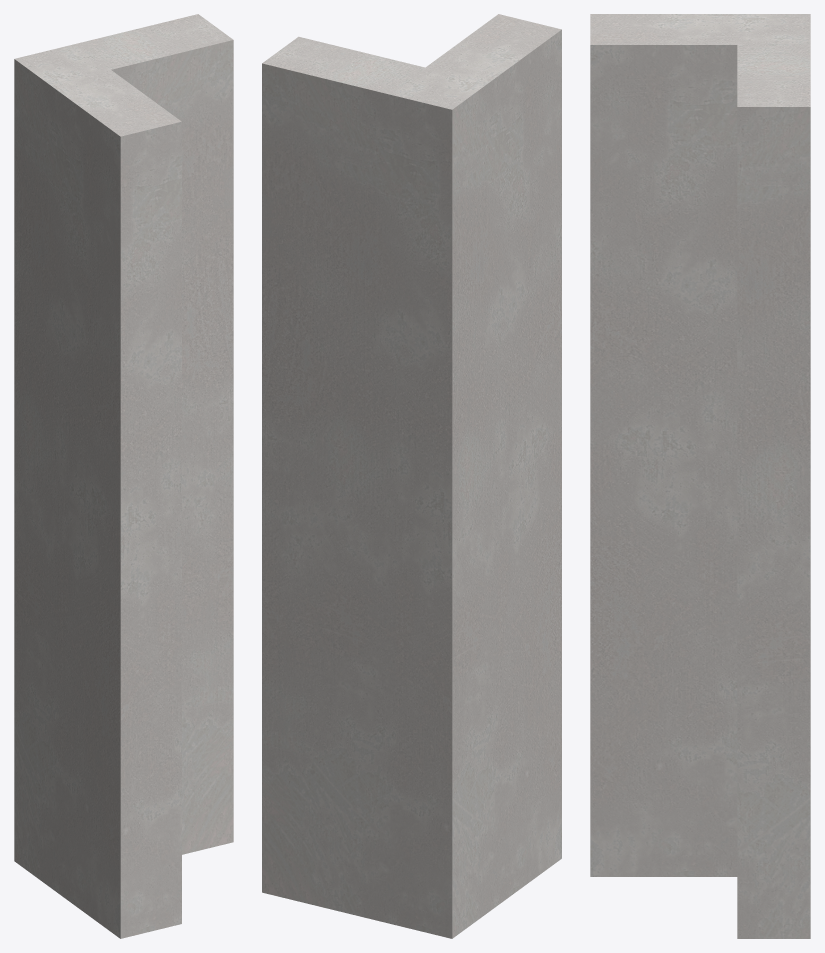
Rendered from corner_wall.glb.
3 renders of one model, left to right at view 1: azimuth 30°, elevation 25°; view 2: azimuth 150°, elevation 25°; view 3: azimuth 270°, elevation 25°, orthographic. The views are drawn at different scales.
Visible parts, largest first — view 1: CornerWall; view 2: CornerWall; view 3: CornerWall.
Part boxes in pixels (x1,y1,x2,y2): CornerWall: [14, 14, 233, 938]; CornerWall: [262, 14, 561, 938]; CornerWall: [590, 14, 810, 938].
Size of the model in its own units: 0.6 by 2.5 by 0.6.
1 material, 1 textured.
